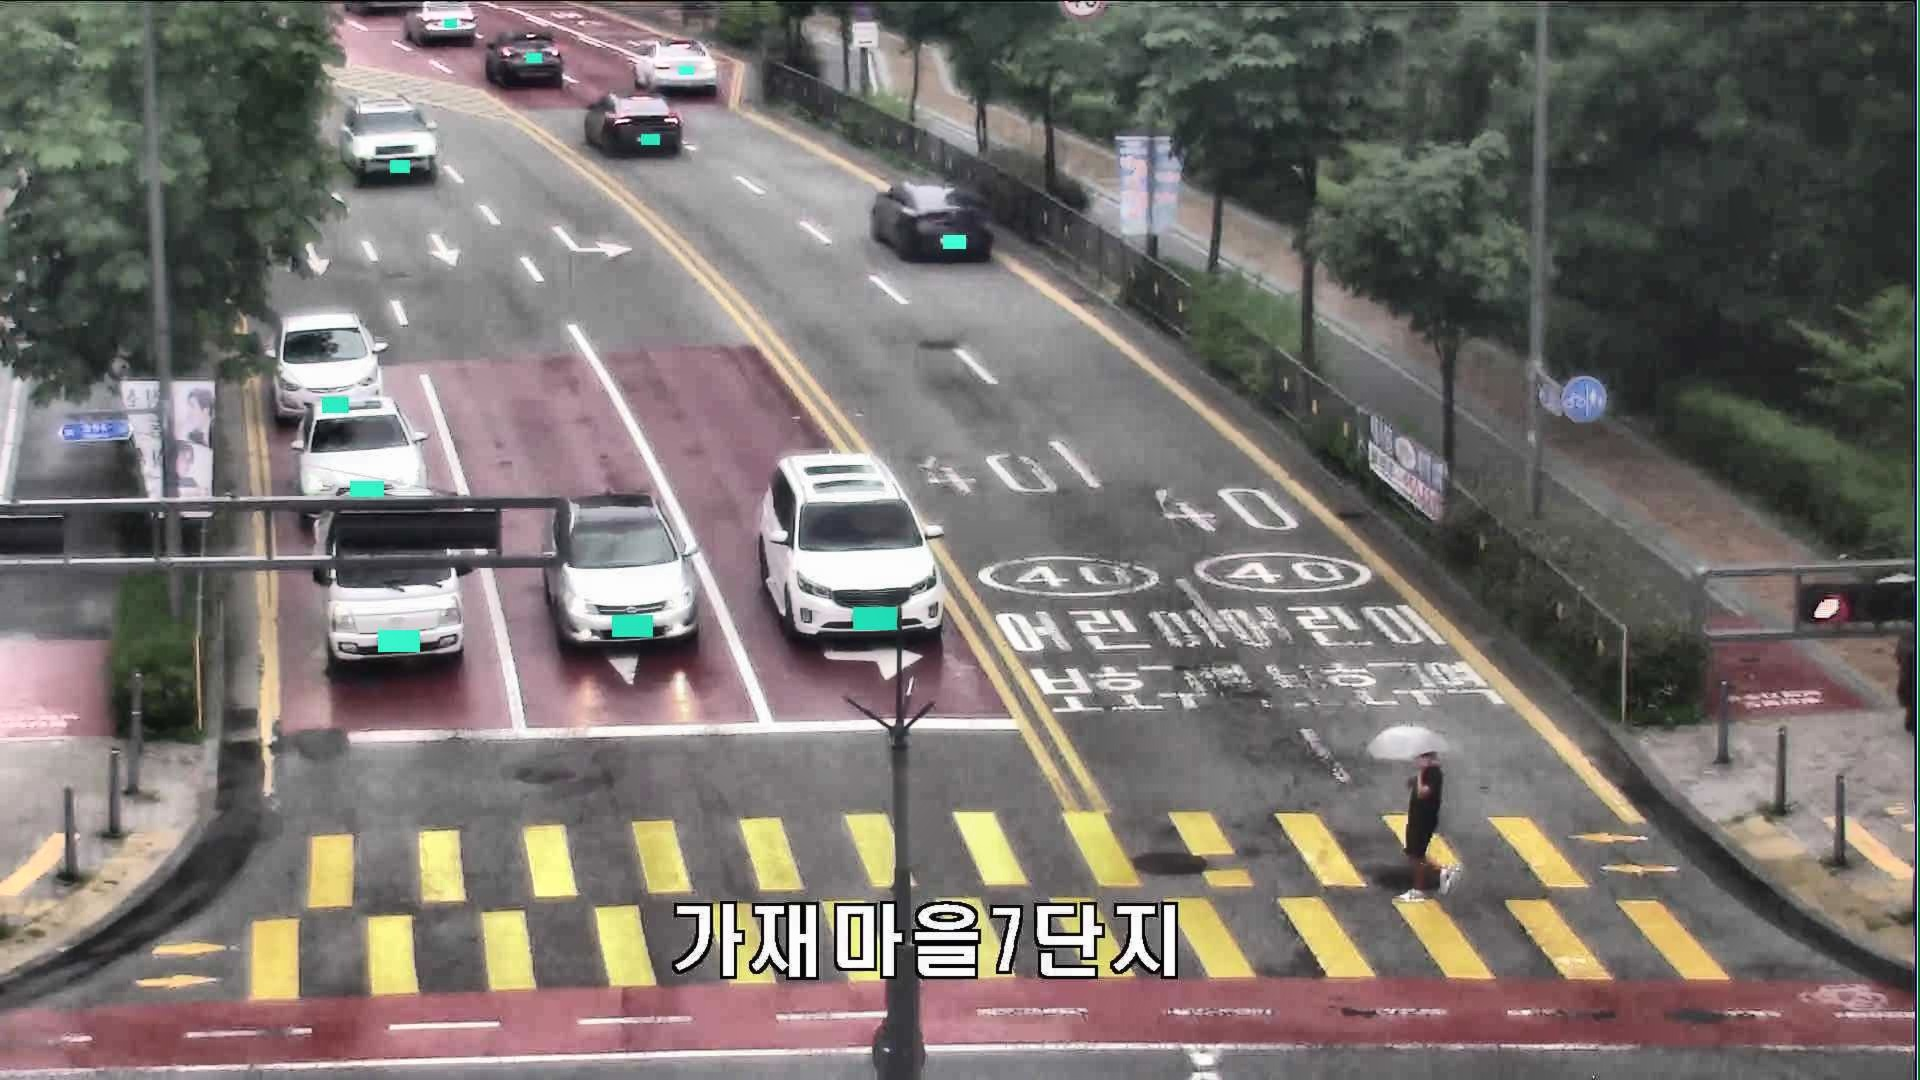um_crosswalk: (1366, 723, 1455, 905)
